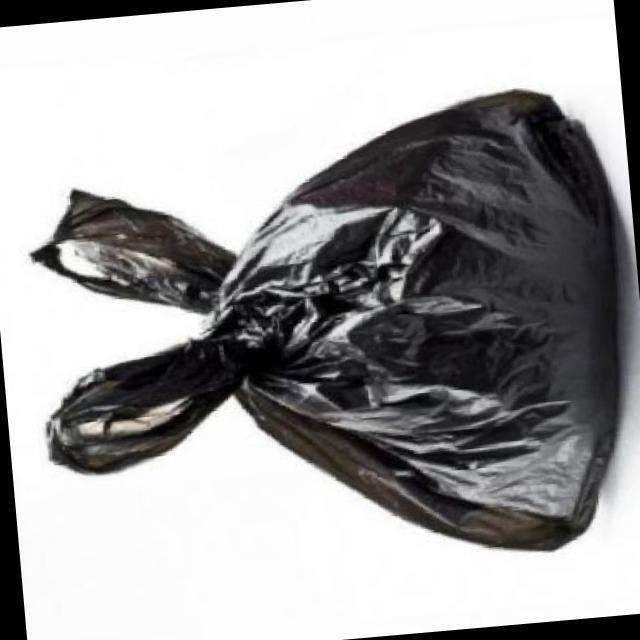Garbage_Bag: (12, 67, 640, 604)
